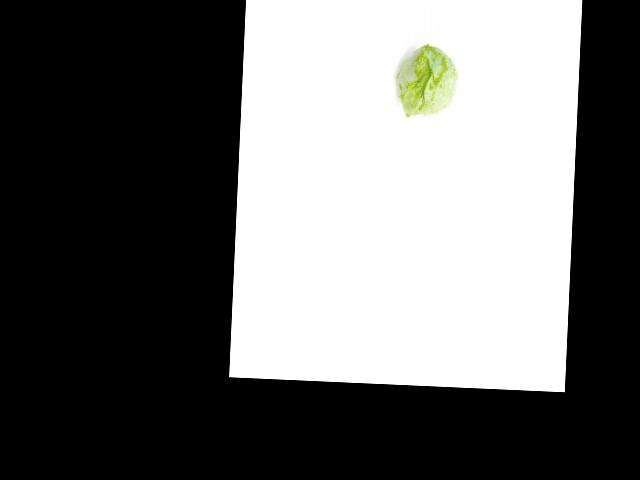lettuce: (391, 43, 464, 118)
